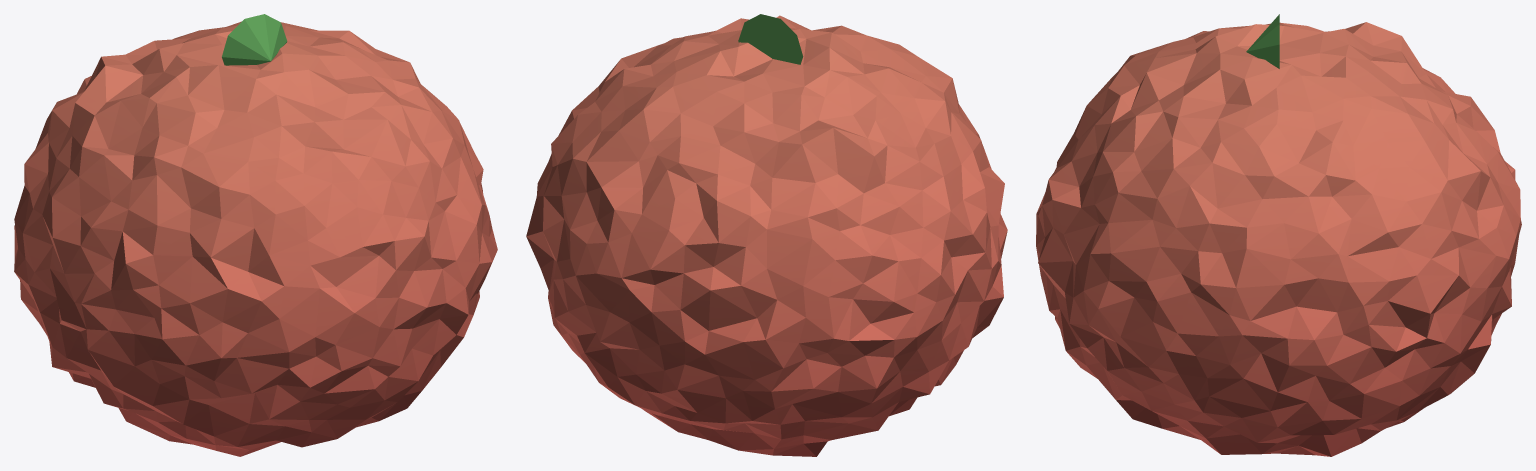
3 views of the same model, side by side, from view 1: azimuth 30°, elevation 25°; view 2: azimuth 150°, elevation 25°; view 3: azimuth 270°, elevation 25° (orthographic).
Parts seen in each view (by area): view 1: world; view 2: world; view 3: world.
Part boxes in pixels (box(x1,y1,x2,y2)): world: box(14, 14, 497, 456); world: box(526, 14, 1007, 456); world: box(1036, 14, 1521, 456).
Bounding box in the file's own units: 0.991 × 0.9444 × 1.
